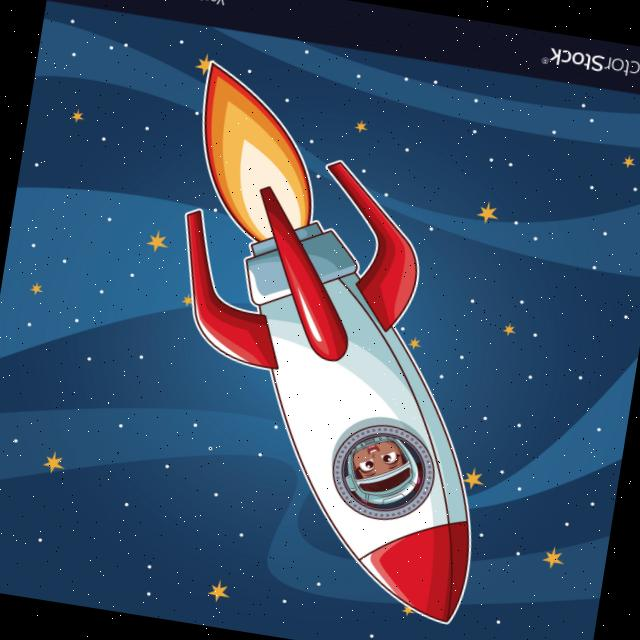rocket: (159, 147, 483, 636)
